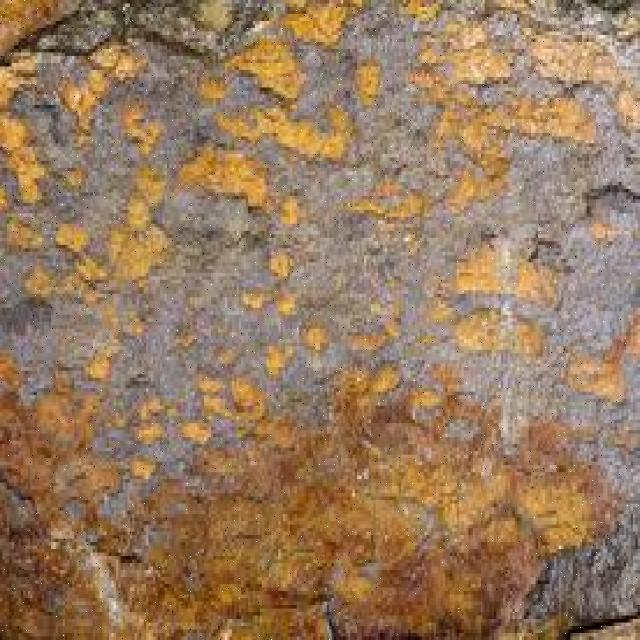Metamorphic: (2, 3, 631, 630)
